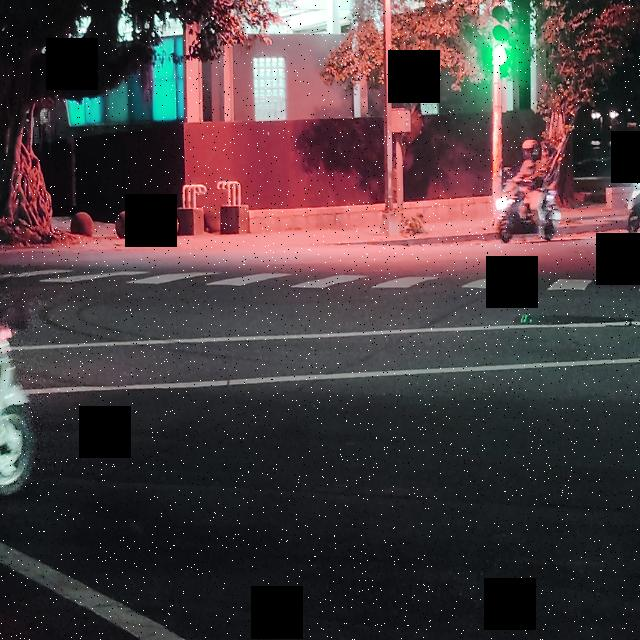zebra crossing: (14, 267, 592, 294)
